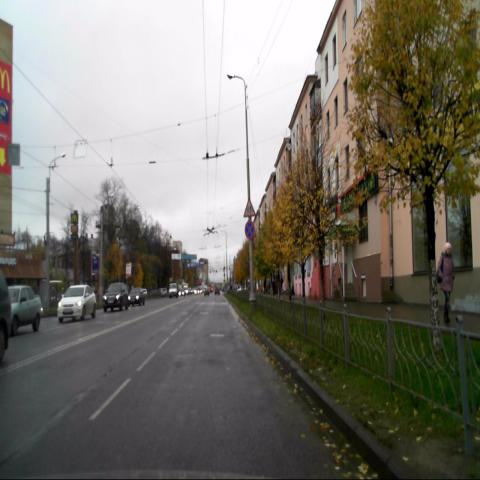1_23: (243, 198, 256, 218)
3_27: (244, 220, 254, 240)
